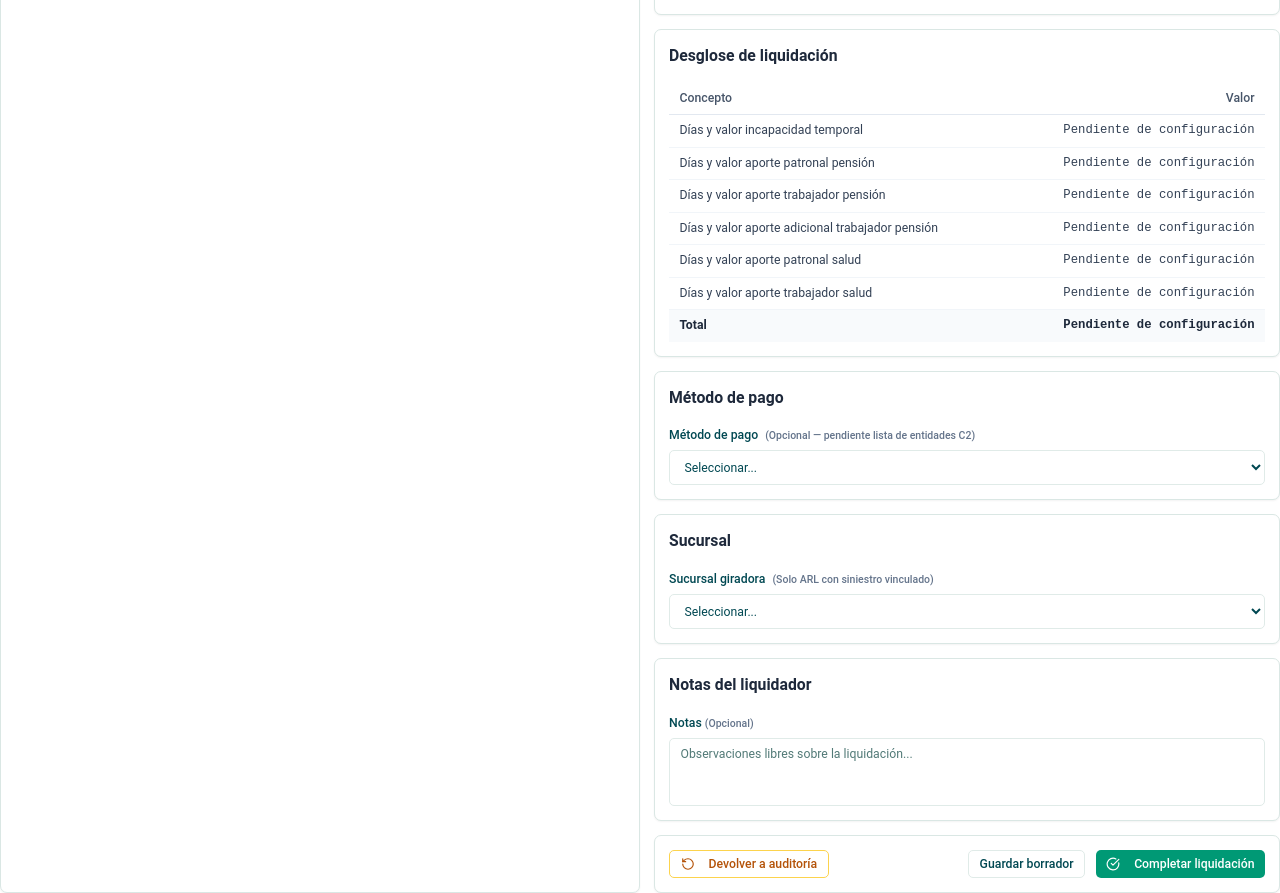
Test case: LiquidacionPage › opens devolucion dialog when "Devolver a auditoría" button is clicked
(page scrolled)
Click the button with test id "devolver-auditoria-btn". click: {"x": 749, "y": 864}
box: [669,850,829,878]
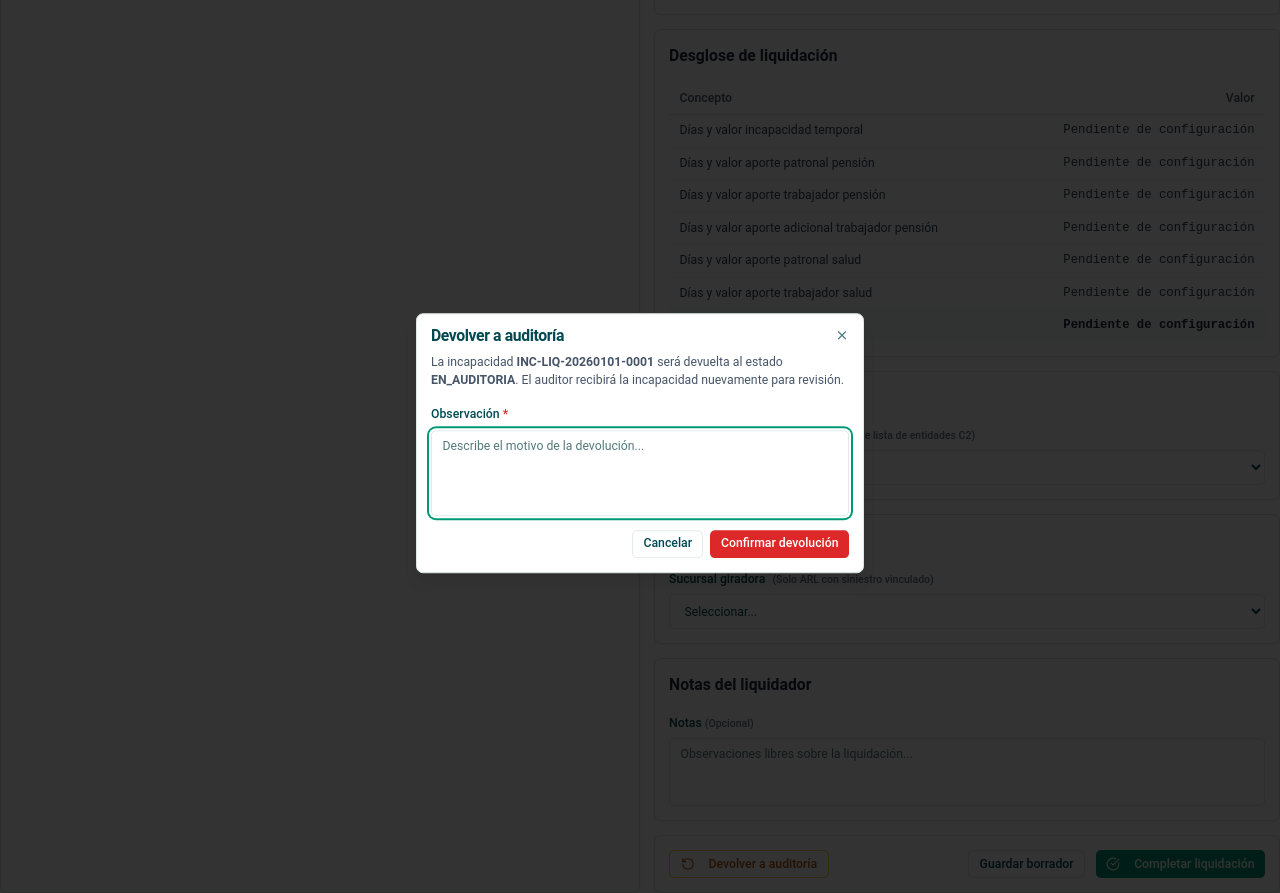
Expected: the text box with placeholder "Describe el motivo de la devolución..." is shown, [431,430,849,516]
